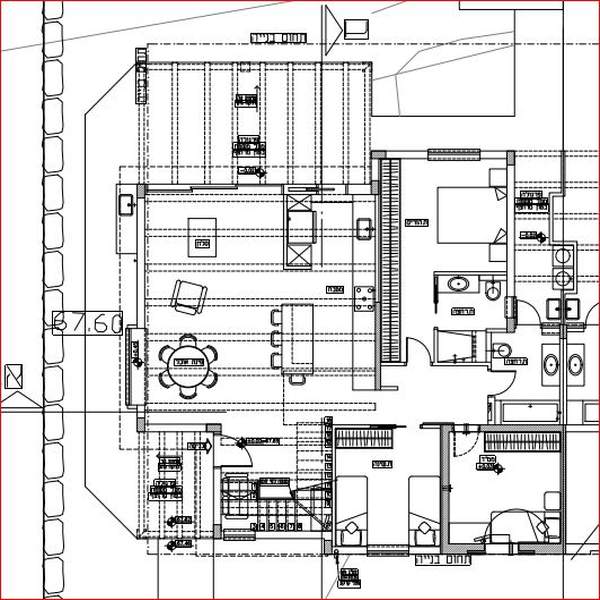door: (213, 437, 259, 472), (514, 296, 542, 331), (490, 363, 518, 396), (452, 424, 480, 456), (404, 335, 432, 366)
wall: (441, 424, 451, 555), (373, 303, 383, 388), (520, 544, 564, 555)
window: (147, 184, 237, 199)
